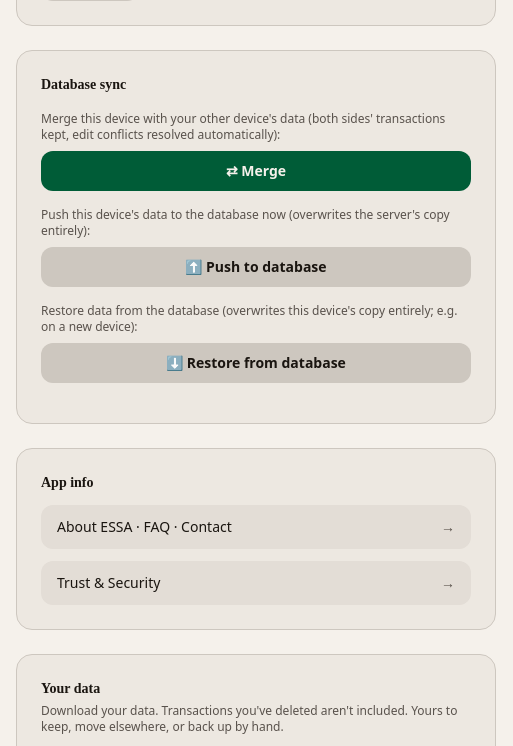
Test: Restore from database asks first, then replaces the unreadable record with the server's copy
(page scrolled)
Step 1. Click the button "⬇ Restore from database" → (256, 362), box top-left (41, 342), bottom-right (471, 382)
(page scrolled)
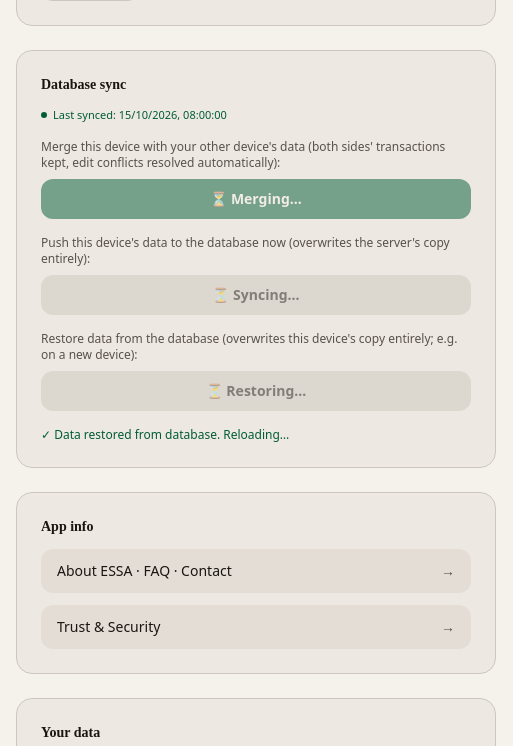
Expected: the text "✓ Data restored from database. Reloading…" is shown, top-left (41, 426), bottom-right (289, 443)
